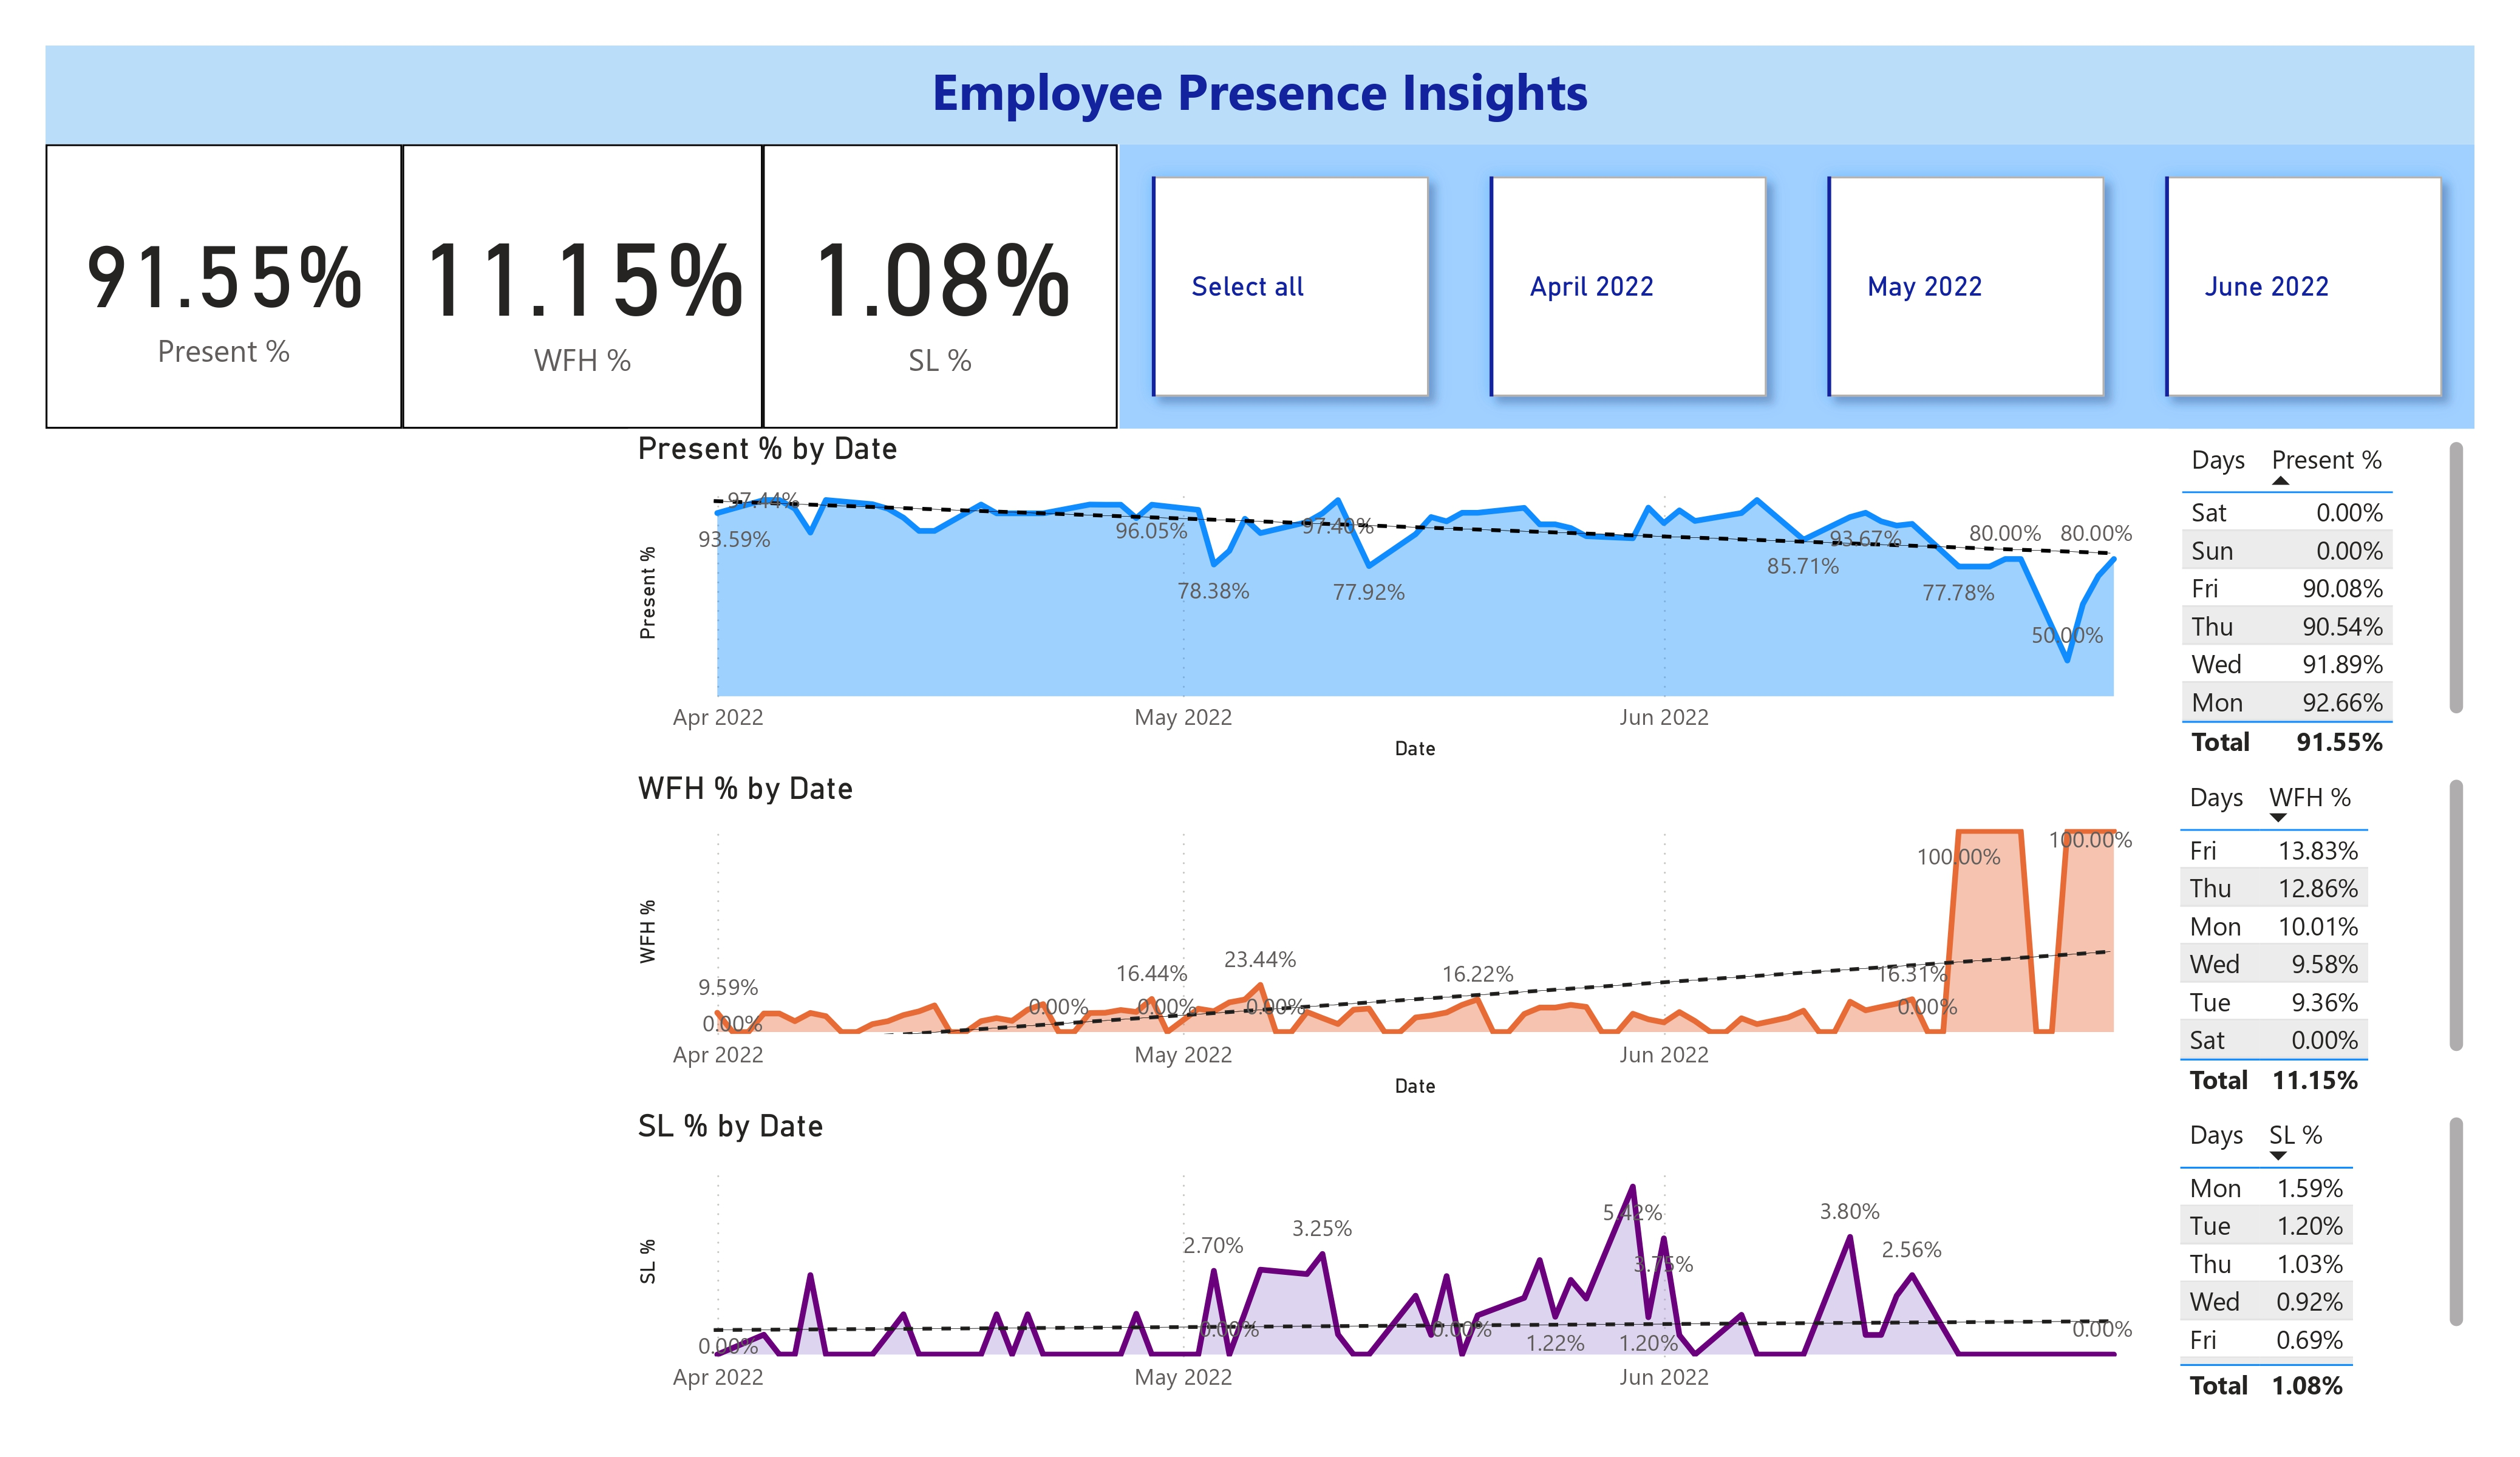

What the dashboard file says about the page in this screenshot:
{"tool":"powerbi","page":{"name":"Problem statement 2","canvas":[1280,720],"ordinal":2},"visuals":[{"type":"card","fields":{"Values":["Measures (2).Present %"]},"box":[0,52.3,188.2,149.8],"z":0},{"type":"advancedSlicerVisual","fields":{"Values":["Final Data.1 Month"]},"box":[565.7,52.3,714.3,149.8],"z":1000},{"type":"card","fields":{"Values":["Measures (2).WFH %"]},"box":[187.9,52,189.7,150],"z":2000},{"type":"card","fields":{"Values":["Measures (2).SL %"]},"box":[377.6,52,187.9,150],"z":3000},{"type":"textbox","box":[0,0,1280,52.3],"z":5000},{"type":"areaChart","fields":{"Category":["Final Data.Date"],"Y":["Measures (2).Present %"]},"box":[307,202,812.5,179.1],"z":6000},{"type":"areaChart","fields":{"Category":["Final Data.Date"],"Y":["Measures (2).SL %"]},"box":[307.3,558.7,812.1,161.6],"z":7000},{"type":"areaChart","fields":{"Category":["Final Data.Date"],"Y":["Measures (2).WFH %"]},"box":[307.3,381.1,812.1,177.6],"z":8000},{"type":"tableEx","fields":{"Values":["Final Data.Days","Measures (2).Present %"]},"box":[1119.7,202.8,160.6,178.3],"z":9000},{"type":"tableEx","fields":{"Values":["Final Data.Days","Measures (2).WFH %"]},"box":[1119.4,381.1,160.6,177.6],"z":10000},{"type":"tableEx","fields":{"Values":["Final Data.Days","Measures (2).SL %"]},"box":[1119.4,558.7,160.6,161.6],"z":11000}]}

Visuals, with their boxes on the page's 1280x720 design canvas (x1, y1, x2, y2). These are canvas units, not pixel positions in the 2520x1457 screenshot, which may show the page scaled, cropped or inside an application window:
card - Measures (2).Present %: left=0, top=52, right=188, bottom=202
advancedSlicerVisual - Final Data.1 Month: left=566, top=52, right=1280, bottom=202
card - Measures (2).WFH %: left=188, top=52, right=378, bottom=202
card - Measures (2).SL %: left=378, top=52, right=566, bottom=202
textbox: left=0, top=0, right=1280, bottom=52
areaChart - Final Data.Date x Measures (2).Present %: left=307, top=202, right=1120, bottom=381
areaChart - Final Data.Date x Measures (2).SL %: left=307, top=559, right=1119, bottom=720
areaChart - Final Data.Date x Measures (2).WFH %: left=307, top=381, right=1119, bottom=559
tableEx - Final Data.Days x Measures (2).Present %: left=1120, top=203, right=1280, bottom=381
tableEx - Final Data.Days x Measures (2).WFH %: left=1119, top=381, right=1280, bottom=559
tableEx - Final Data.Days x Measures (2).SL %: left=1119, top=559, right=1280, bottom=720
